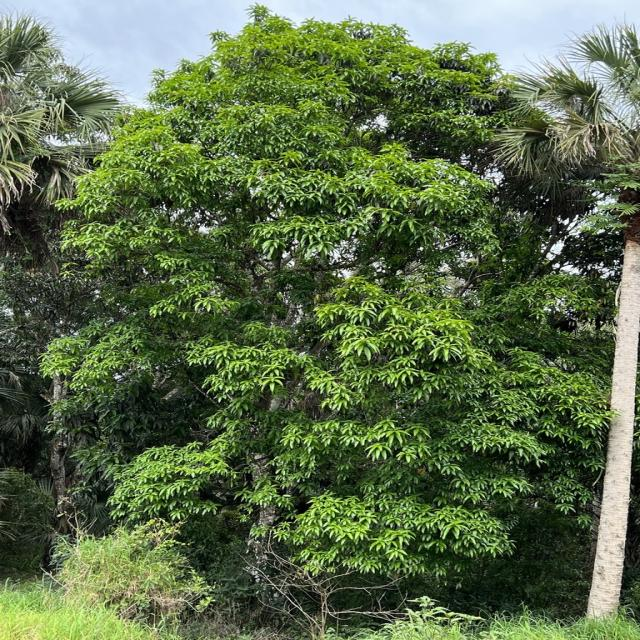Mango-Tree: (63, 22, 576, 613)
